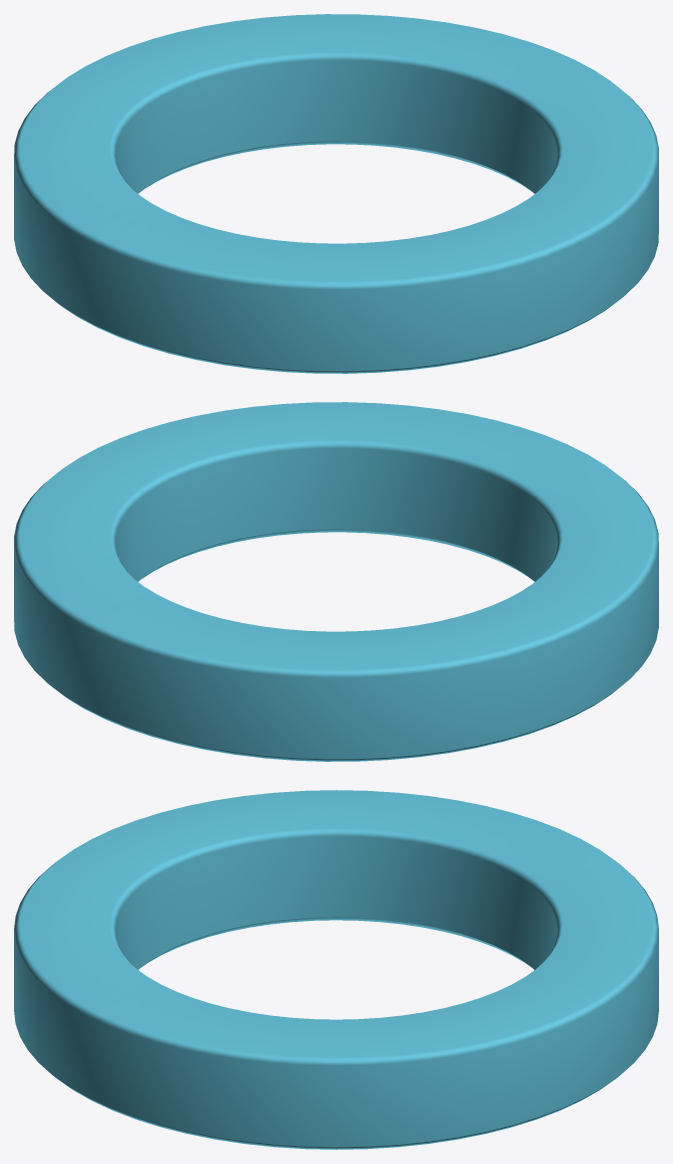
3 views of the same model, one above another, from view 1: azimuth 30°, elevation 25°; view 2: azimuth 150°, elevation 25°; view 3: azimuth 270°, elevation 25° (orthographic).
Visible parts, largest first — view 1: seal_body; view 2: seal_body; view 3: seal_body.
Boxes of the visible parts, left/top/right/bottom form: seal_body: left=14, top=14, right=658, bottom=373; seal_body: left=14, top=402, right=658, bottom=761; seal_body: left=14, top=790, right=658, bottom=1149.
Size of the model in its own units: 0.0302 by 0.00476 by 0.0302.
